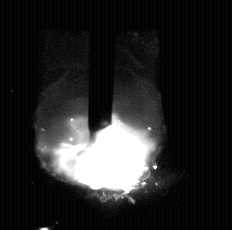arame: (88, 0, 113, 141)
poca: (35, 0, 161, 230)
